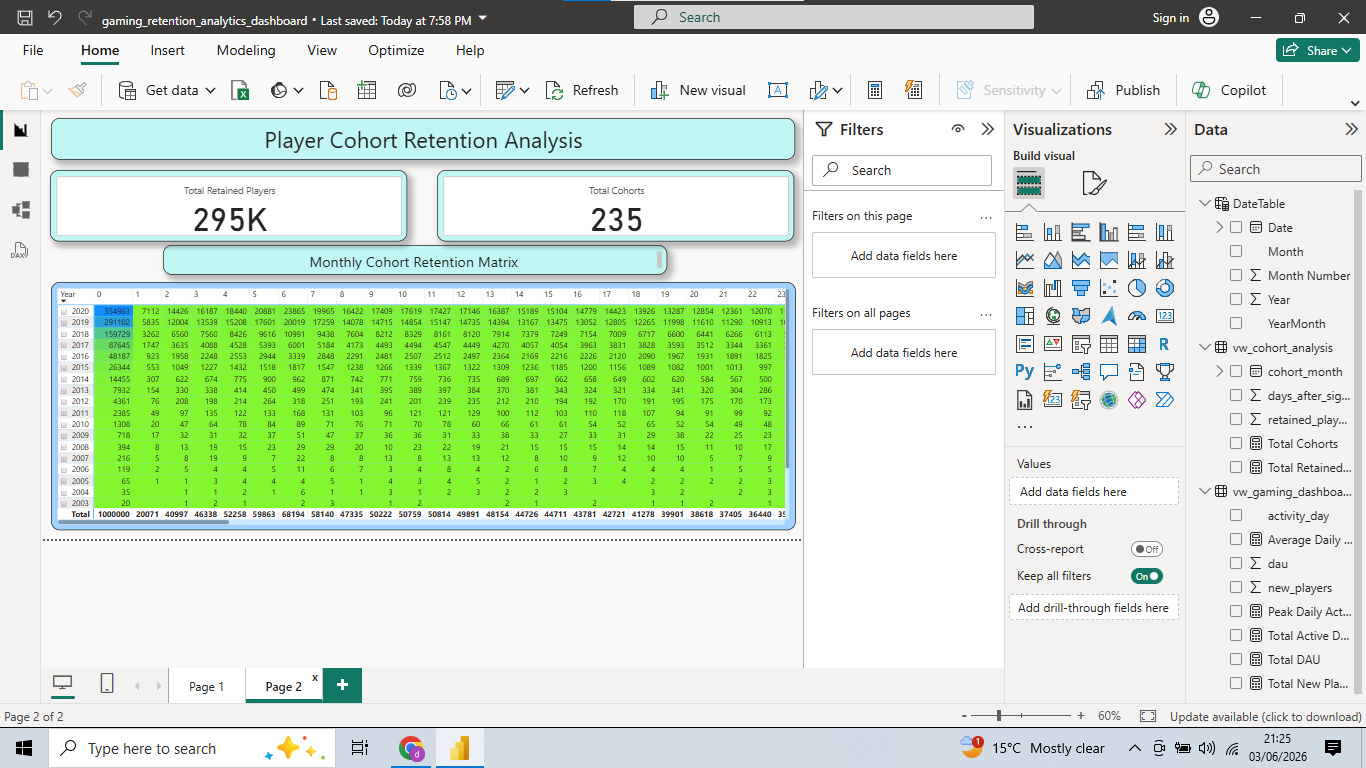

The page's visual inventory and layout, read from the dashboard file:
{"tool":"powerbi","page":{"name":"Page 2","canvas":[1280,720],"ordinal":1},"visuals":[{"type":"pivotTable","fields":{"Rows":["vw_cohort_analysis.cohort_month.Variation.Date Hierarchy.Year","vw_cohort_analysis.cohort_month.Variation.Date Hierarchy.Month"],"Columns":["vw_cohort_analysis.days_after_signup"],"Values":["Sum(vw_cohort_analysis.retained_players)"]},"box":[16.8,288.9,1251.4,416.6],"z":0},{"type":"textbox","box":[204.9,226.8,846.6,50.4],"z":1000},{"type":"textbox","box":[16.8,13.4,1250,70],"z":2000},{"type":"cardVisual","fields":{"Data":["vw_cohort_analysis.Total Cohorts"]},"box":[665,100,600,120],"z":3000},{"type":"cardVisual","fields":{"Data":["vw_cohort_analysis.Total Retained Players"]},"box":[15,100,600,120],"z":4000}]}

Visuals, with their boxes on the page's 1280x720 design canvas (x1, y1, x2, y2). These are canvas units, not pixel positions in the 1366x768 screenshot, which may show the page scaled, cropped or inside an application window:
pivotTable - vw_cohort_analysis.cohort_month.Variation.Date Hierarchy.Year x vw_cohort_analysis.cohort_month.Variation.Date Hierarchy.Month: [17,289,1268,706]
textbox: [205,227,1052,277]
textbox: [17,13,1267,83]
cardVisual - vw_cohort_analysis.Total Cohorts: [665,100,1265,220]
cardVisual - vw_cohort_analysis.Total Retained Players: [15,100,615,220]
